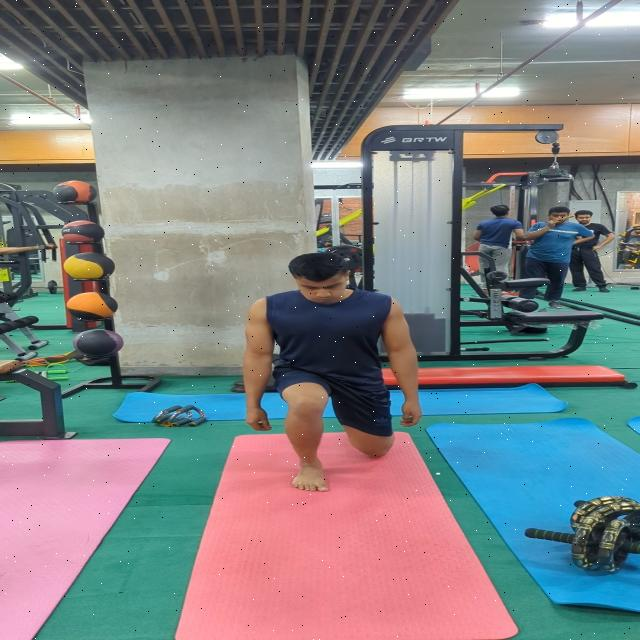Normal_Lunges: (230, 248, 427, 501)
